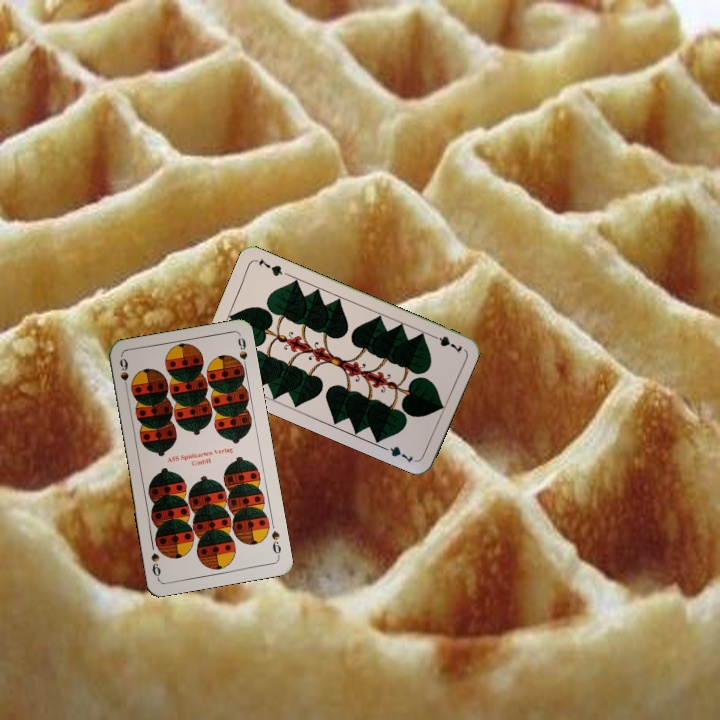G7: (426, 330, 465, 356)
S9: (116, 354, 131, 395), (267, 527, 284, 560)
